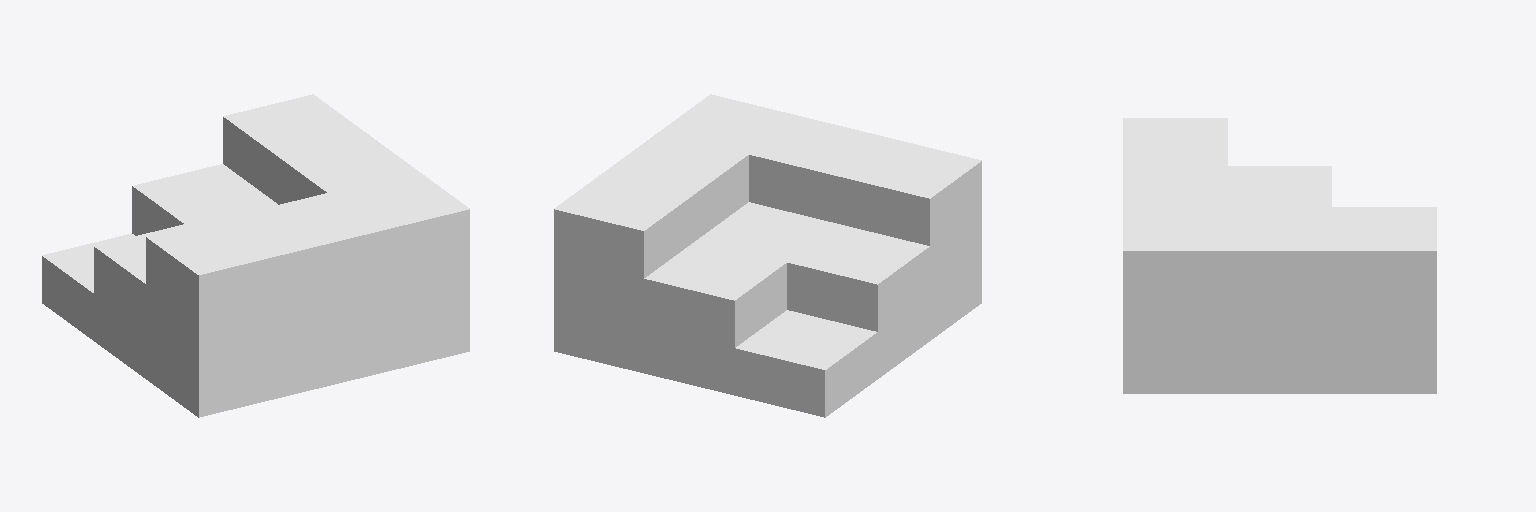
The model's file is CornerBlockC.obj.
3 views of the same model, side by side, from view 1: azimuth 30°, elevation 25°; view 2: azimuth 150°, elevation 25°; view 3: azimuth 270°, elevation 25° (orthographic).
Visible parts, largest first — view 1: object 1; view 2: object 1; view 3: object 1.
Boxes of the visible parts, x1=… form: object 1: x1=42, y1=94, x2=469, y2=417; object 1: x1=554, y1=94, x2=981, y2=417; object 1: x1=1123, y1=118, x2=1436, y2=393.
Size of the model in its own units: 0.6 by 0.3 by 0.6.